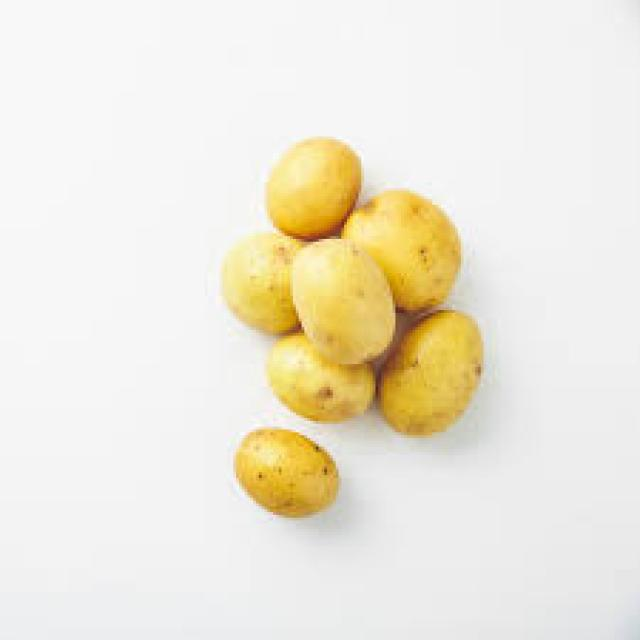Potato: (379, 313, 510, 456), (278, 223, 402, 370), (238, 117, 368, 240), (328, 185, 452, 308), (264, 326, 384, 446), (212, 227, 322, 345), (220, 421, 335, 531)
